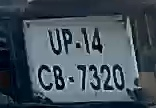0: (109, 62, 129, 91)
1: (80, 27, 92, 58)
2: (100, 65, 114, 93)
3: (88, 65, 102, 93)
4: (90, 23, 105, 56)
7: (74, 62, 88, 92)
B: (51, 62, 67, 92)
C: (36, 65, 54, 91)
P: (60, 25, 74, 56)
U: (46, 28, 62, 56)
